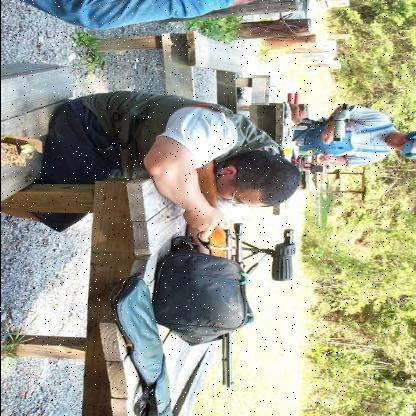rifle: (169, 151, 274, 395)
